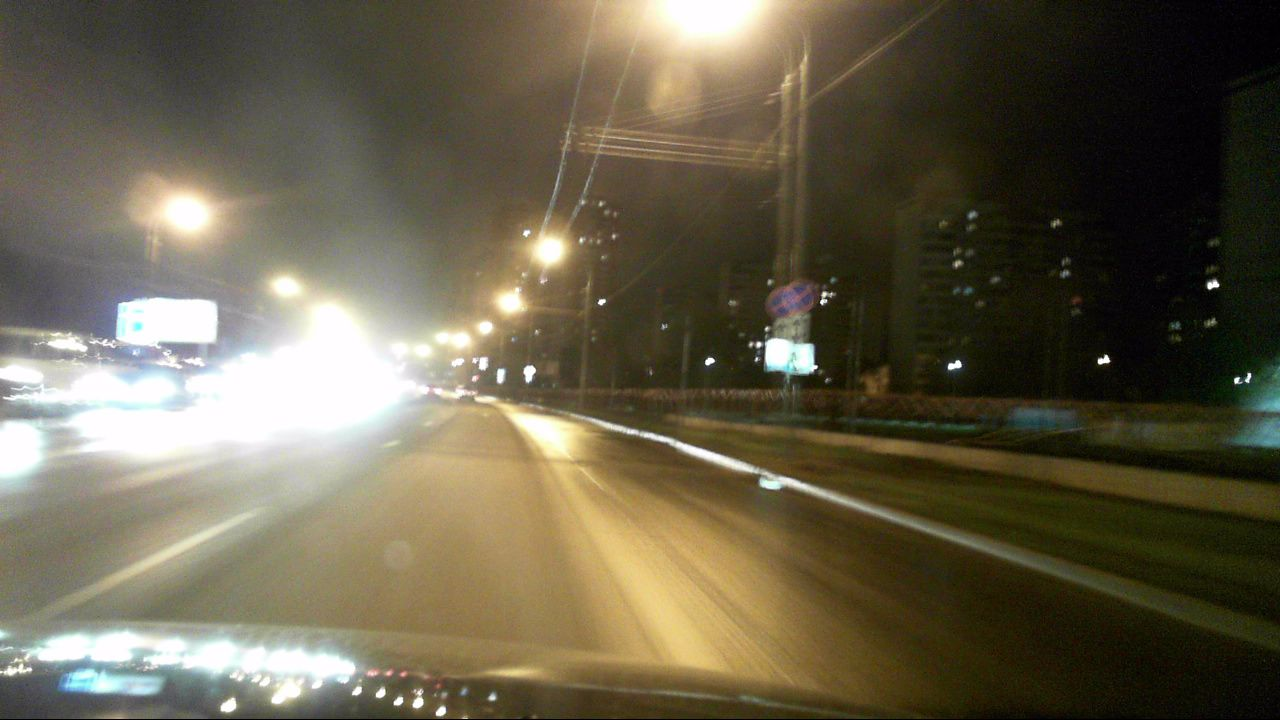No Parking: (780, 280, 813, 314)
